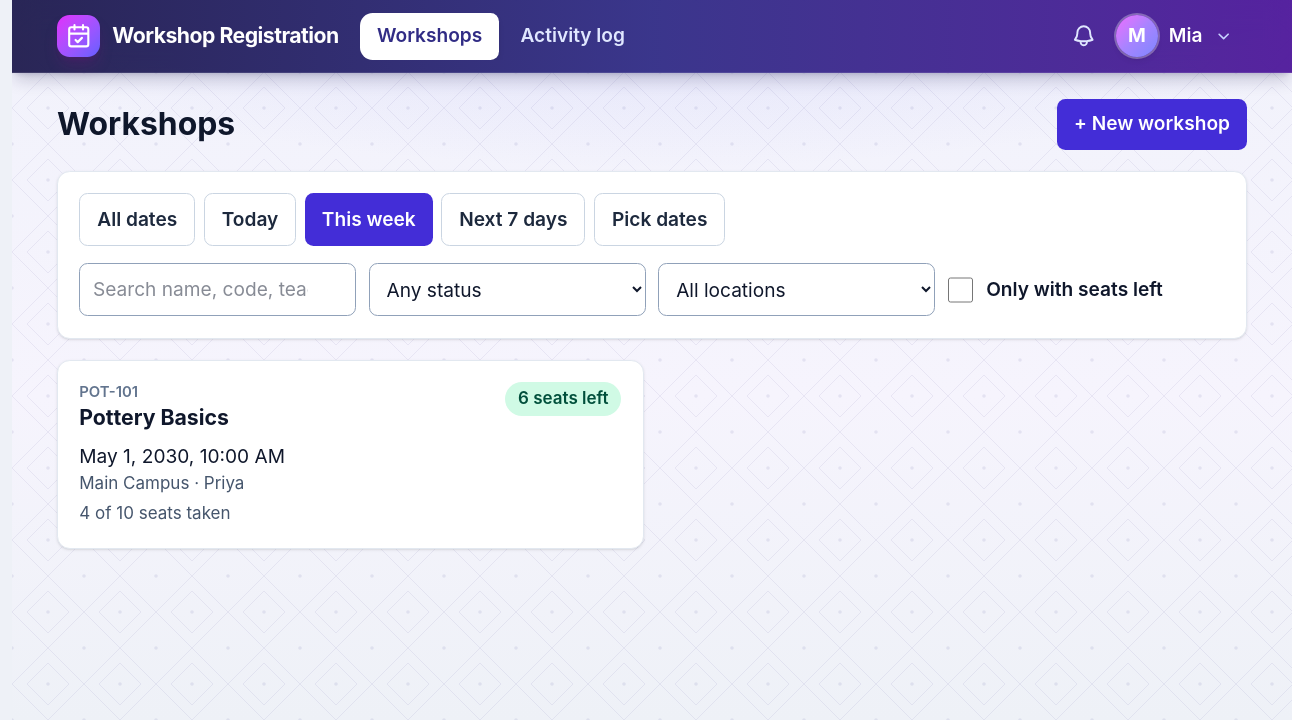
Test: notification bell › shows an empty state and navigates to the activity log
This screenshot has width=1292, height=720.
Click the button named "Notifications" at {"x": 1084, "y": 36}, box [1060,13,1107,60]
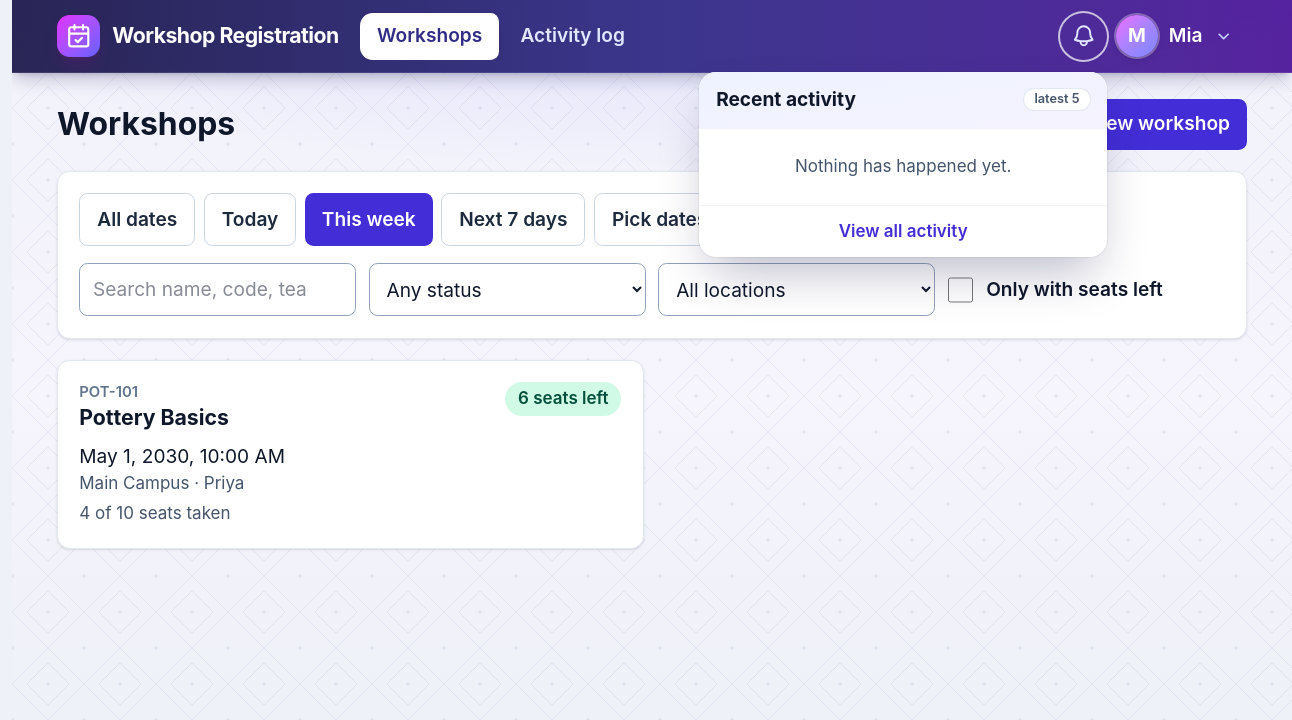
Now the text "Nothing has happened yet." is shown, box [795,156,1011,176]
Click the link "View all activity" at {"x": 903, "y": 231}, box [699,205,1107,257]
(page scrolled)
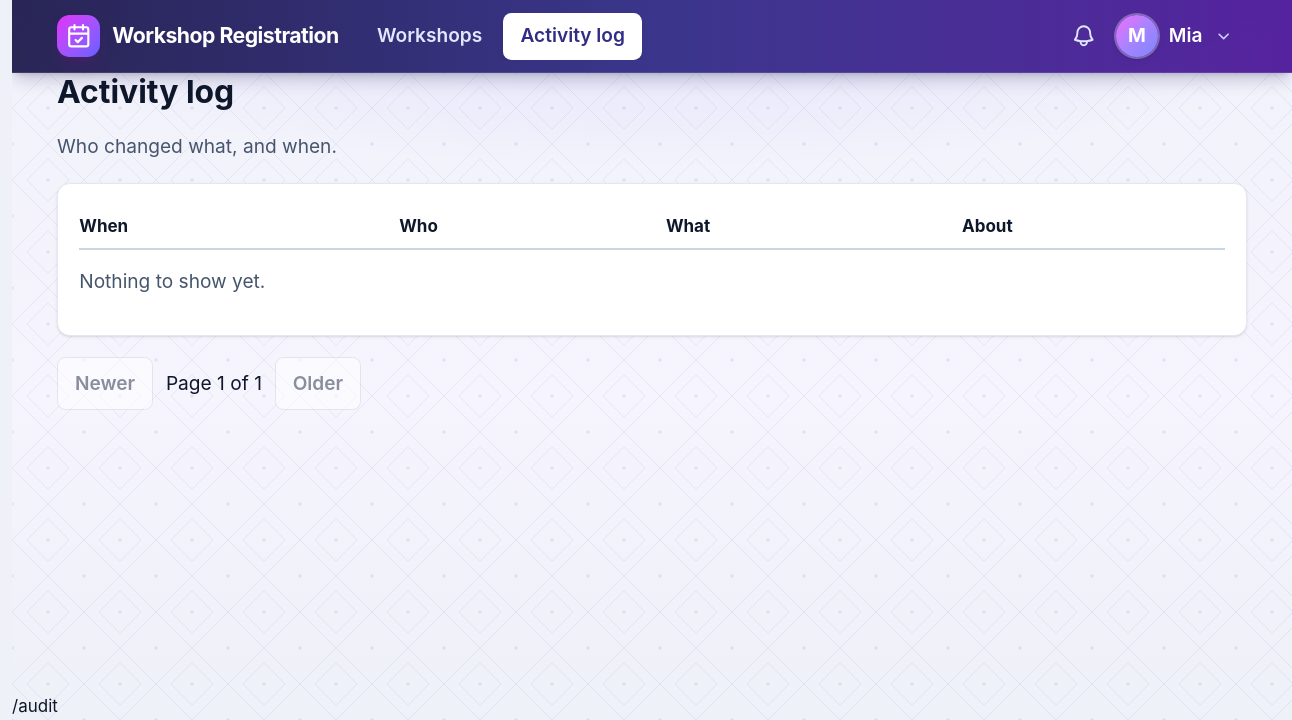
Now the text with test id "location" reads "/audit", box [12,696,58,716]
